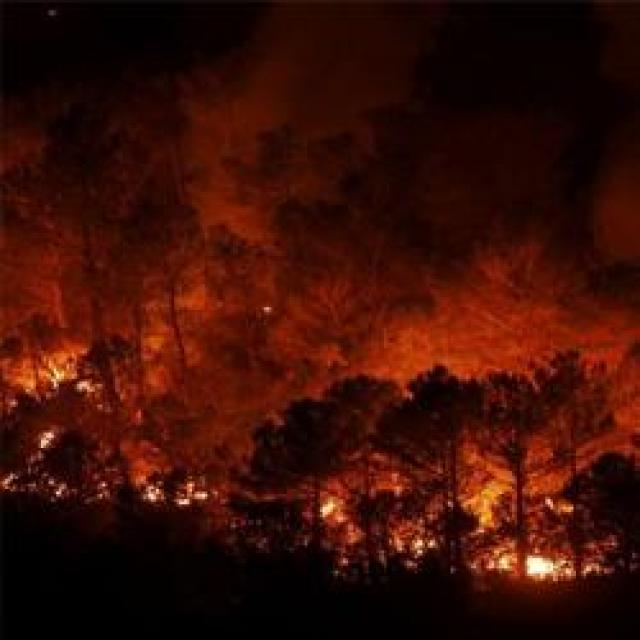smoke: (3, 358, 44, 394), (39, 353, 82, 386), (326, 496, 350, 522), (535, 558, 565, 578), (41, 432, 62, 454)
